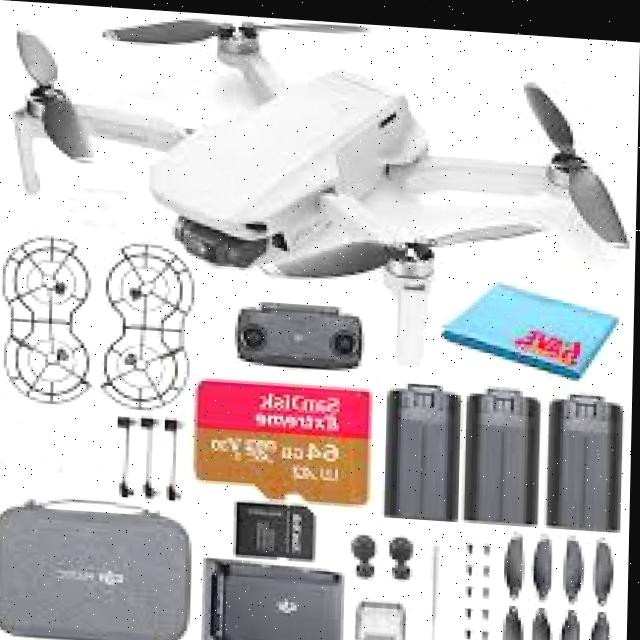drone: (0, 0, 640, 370)
